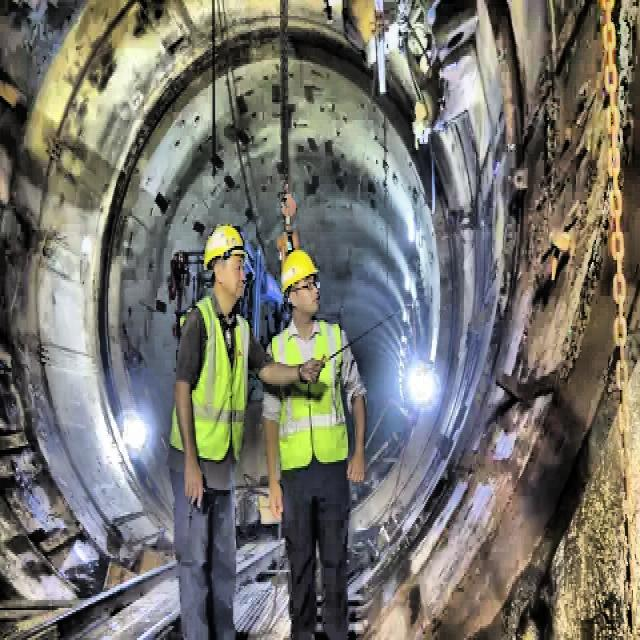safety_helmet: (201, 222, 251, 272), (278, 246, 322, 298)
safety_jacket: (166, 296, 260, 488), (268, 318, 352, 476)
